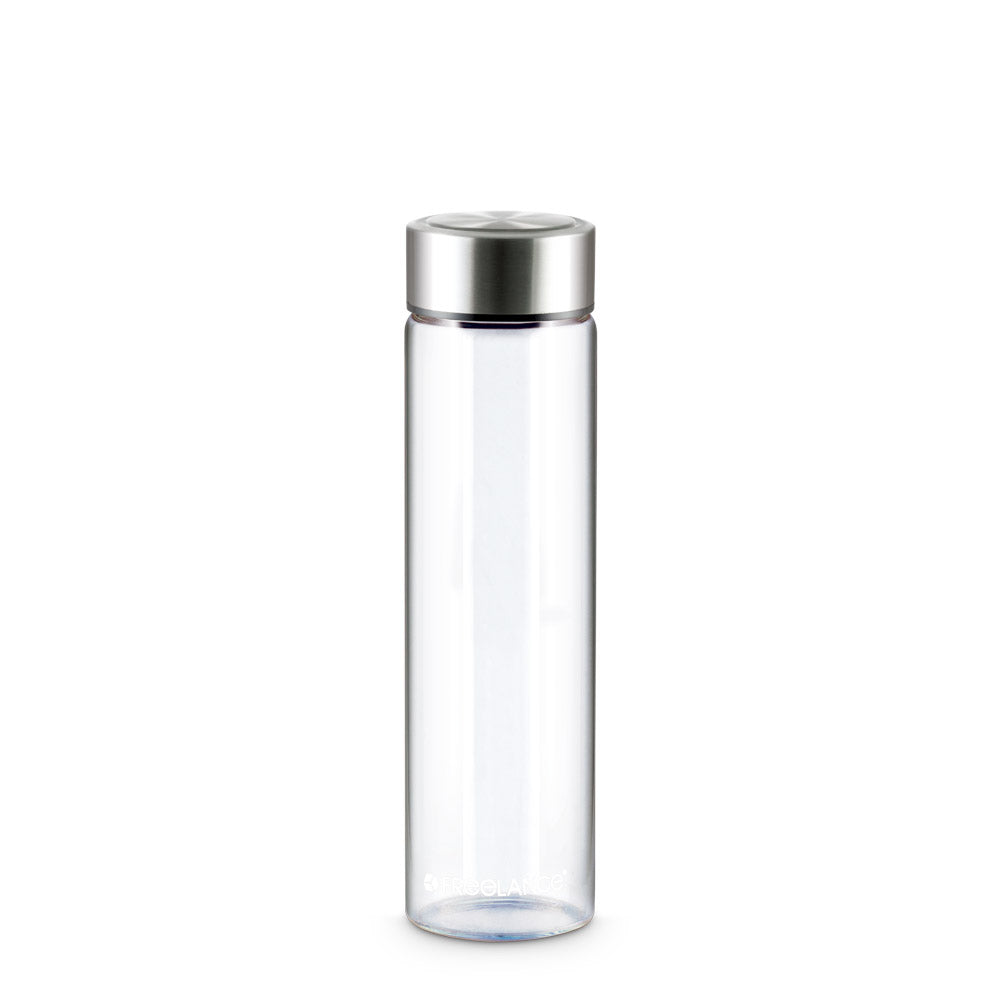glass_bottle: (354, 190, 651, 964)
